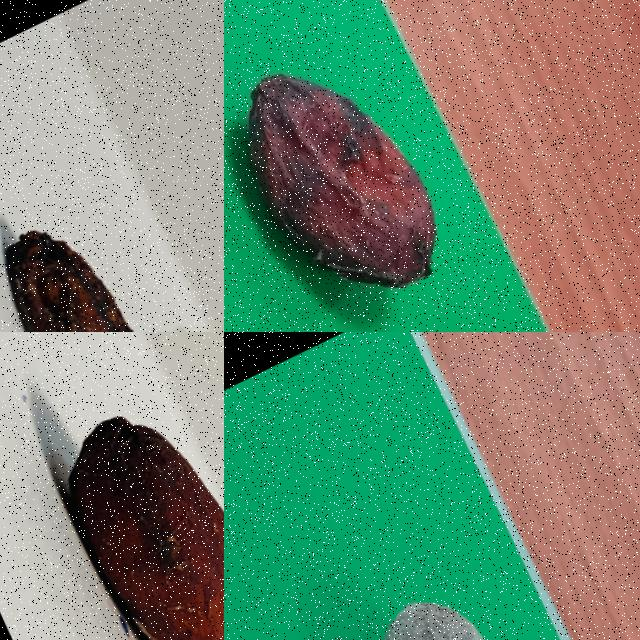Agglomerated_cocoabeans: (224, 509, 612, 639)
Fine_cocoabeans: (224, 0, 530, 331), (0, 332, 223, 639)
Flat_cocoabeans: (0, 165, 223, 331)
